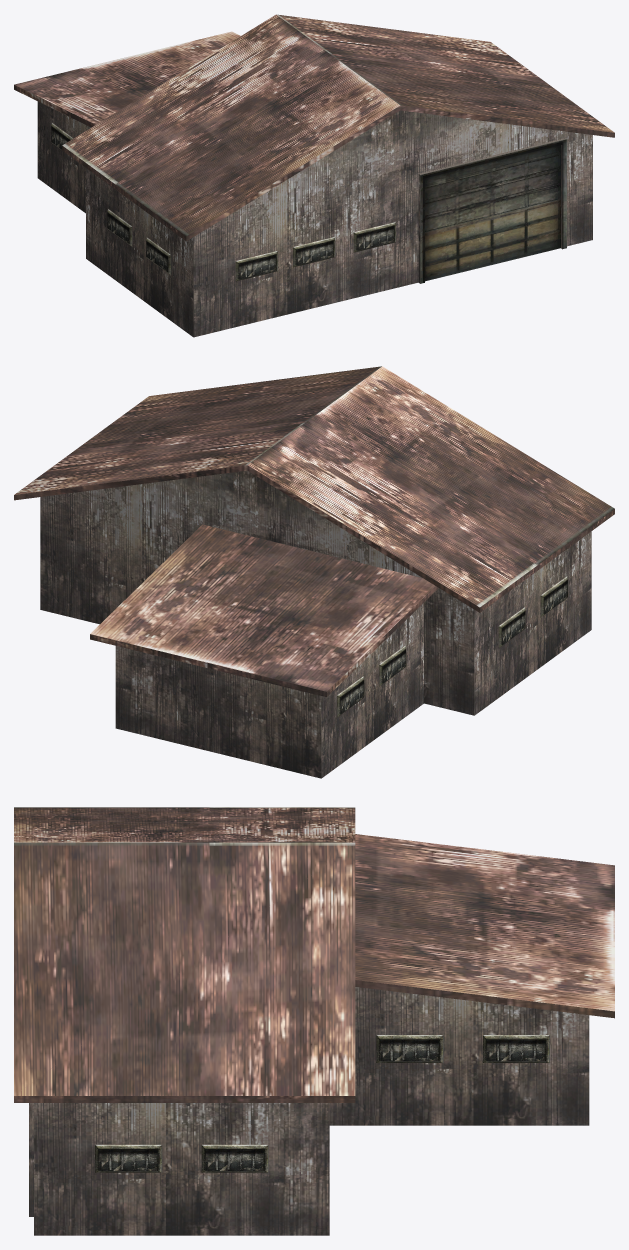
The model's file is warehs13.glb.
3 views of the same model, one above another, from view 1: azimuth 30°, elevation 25°; view 2: azimuth 150°, elevation 25°; view 3: azimuth 270°, elevation 25° (orthographic). The views are drawn at different scales.
Parts seen in each view (by area): view 1: _warehs13; view 2: _warehs13; view 3: _warehs13.
Part boxes in pixels (x1,y1,x2,y2): _warehs13: [14, 14, 614, 337]; _warehs13: [14, 366, 614, 778]; _warehs13: [14, 807, 614, 1235].
Size of the model in its own units: 15.75 by 6.62 by 13.92.
1 material, 1 textured.
